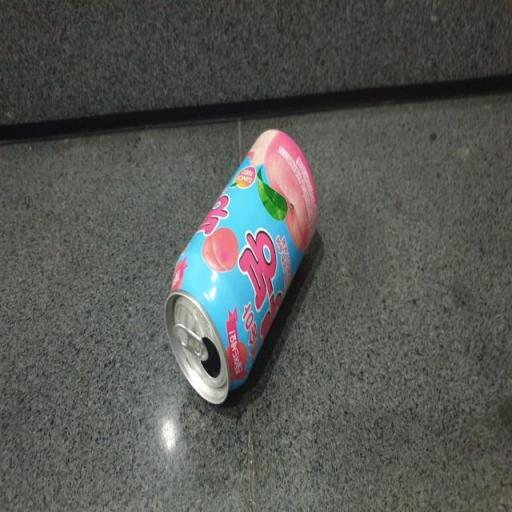metal: (150, 118, 326, 416)
